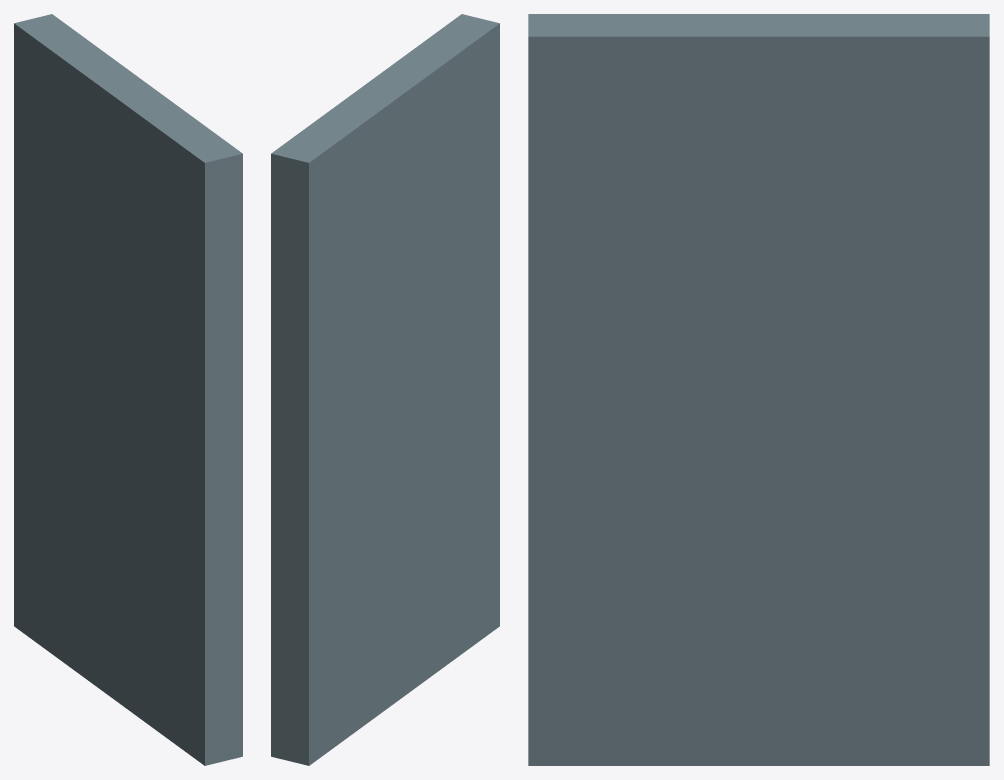
The model's file is side-shelf-plank.obj.
The picture shows the model from 3 angles, left to right: view 1: azimuth 30°, elevation 25°; view 2: azimuth 150°, elevation 25°; view 3: azimuth 270°, elevation 25°; orthographic projection. The views are drawn at different scales.
Visible parts, largest first — view 1: IKE170029; view 2: IKE170029; view 3: IKE170029.
Boxes of the visible parts, x1,y1,x2,y2 form: IKE170029: (14, 14, 242, 765); IKE170029: (271, 14, 499, 765); IKE170029: (528, 14, 989, 765).
Size of the model in its own units: 0.135 by 2.04 by 1.17.
